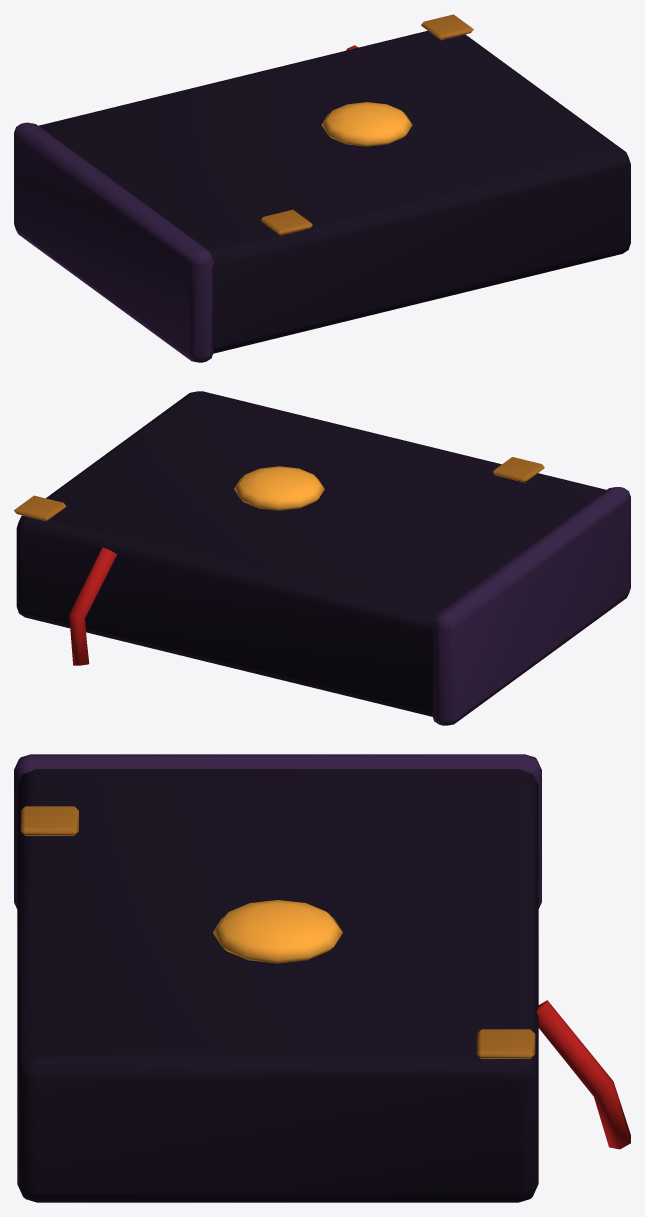
File: spell_book.obj
The picture shows the model from 3 angles, top to bottom: view 1: azimuth 30°, elevation 25°; view 2: azimuth 150°, elevation 25°; view 3: azimuth 270°, elevation 25°; orthographic projection. The views are drawn at different scales.
Visible parts, largest first — view 1: LH_spell_book; view 2: LH_spell_book; view 3: LH_spell_book.
Boxes of the visible parts, left/top/right/bottom form: LH_spell_book: left=14, top=14, right=630, bottom=362; LH_spell_book: left=14, top=391, right=630, bottom=725; LH_spell_book: left=14, top=754, right=630, bottom=1202.
Size of the model in its own units: 0.224 by 0.06 by 0.1894.
